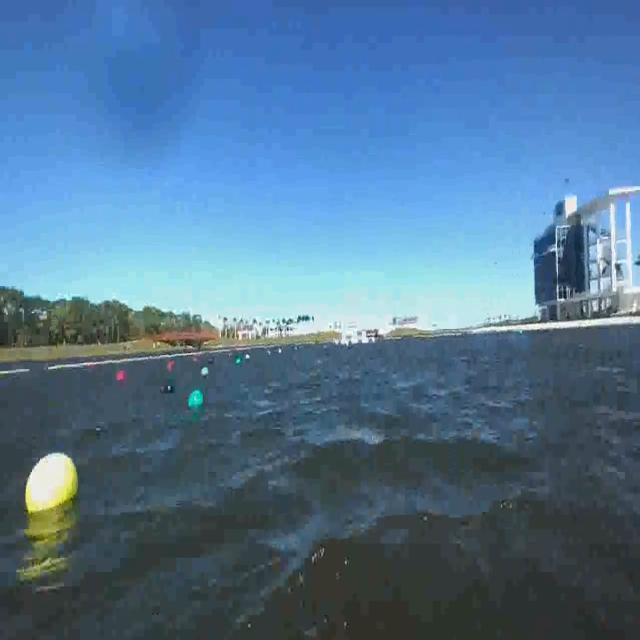black-buoy: (160, 381, 173, 395)
green-buoy: (188, 388, 204, 408)
red-buoy: (117, 369, 125, 380)
yellow-buoy: (27, 452, 80, 512)
